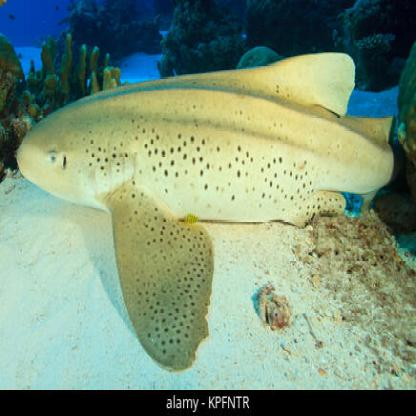zebra_shark: (9, 40, 400, 372)
